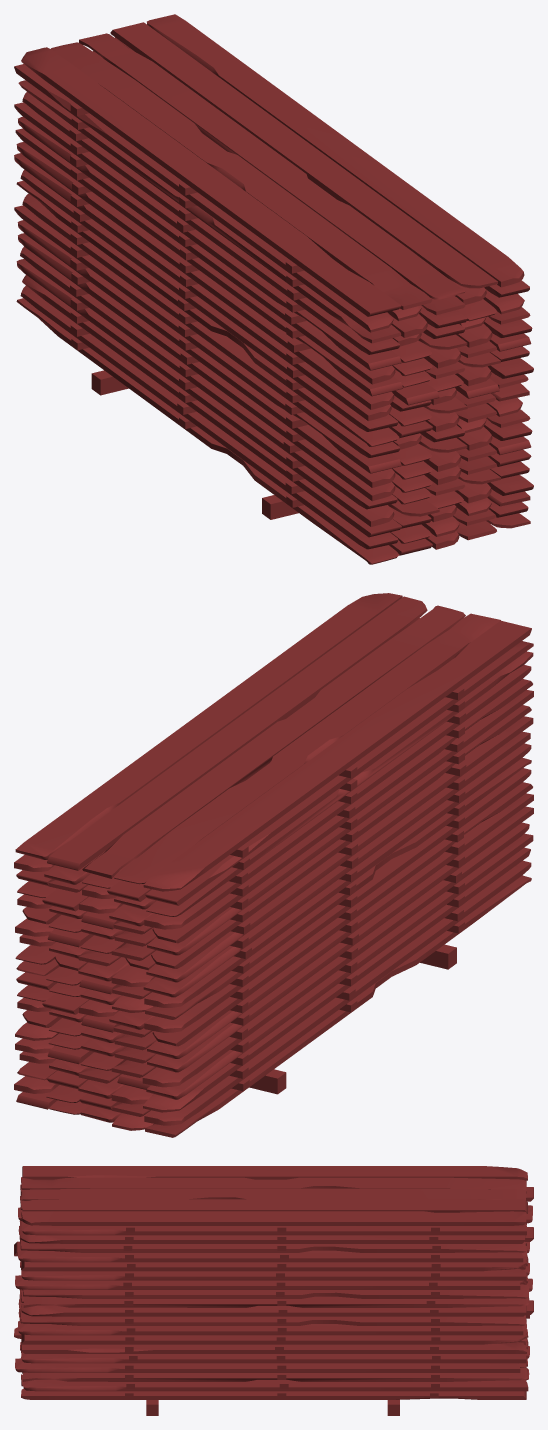
The model's file is SM_WoodPlankPack06.fbx.
3 views of the same model, one above another, from view 1: azimuth 30°, elevation 25°; view 2: azimuth 150°, elevation 25°; view 3: azimuth 270°, elevation 25° (orthographic). The views are drawn at different scales.
Parts seen in each view (by area): view 1: WoodPlankPack06; view 2: WoodPlankPack06; view 3: WoodPlankPack06.
Part boxes in pixels (<box>): WoodPlankPack06: <box>14,14,533,564</box>; WoodPlankPack06: <box>14,593,533,1137</box>; WoodPlankPack06: <box>14,1166,533,1415</box>.
Size of the model in its own units: 89.99 by 124 by 308.
